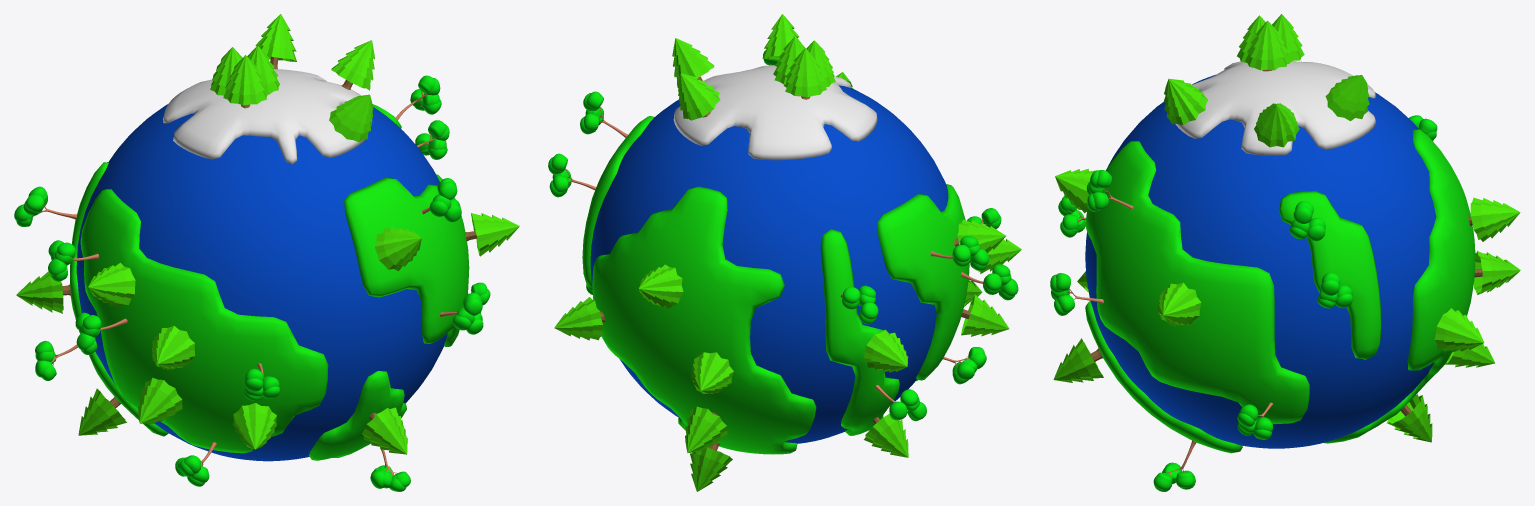
Rendered from Planet_Azul_2.fbx.
3 renders of one model, left to right at view 1: azimuth 30°, elevation 25°; view 2: azimuth 150°, elevation 25°; view 3: azimuth 270°, elevation 25°, orthographic. The views are drawn at different scales.
Visible parts, largest first — view 1: Sphere.003, Sphere.002; view 2: Sphere.003, Sphere.002; view 3: Sphere.003, Sphere.002.
Boxes of the visible parts, left/top/right/bottom form: Sphere.003: left=14, top=14, right=519, bottom=491; Sphere.002: left=76, top=104, right=447, bottom=461; Sphere.003: left=548, top=14, right=1021, bottom=491; Sphere.002: left=590, top=85, right=948, bottom=443; Sphere.003: left=1050, top=14, right=1520, bottom=491; Sphere.002: left=1085, top=74, right=1436, bottom=448.
Size of the model in its own units: 4.08 by 3.93 by 3.92.
